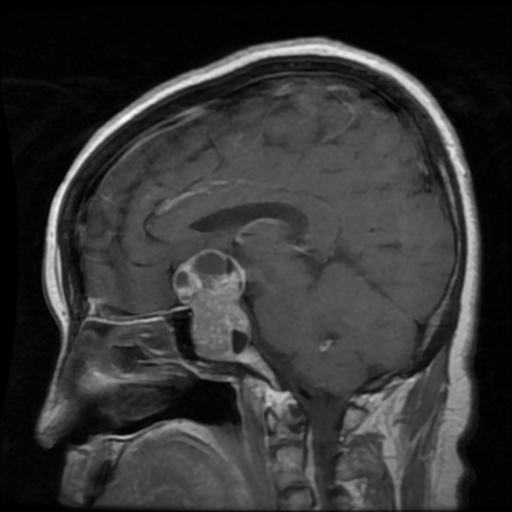pituitary: (171, 248, 252, 361)
